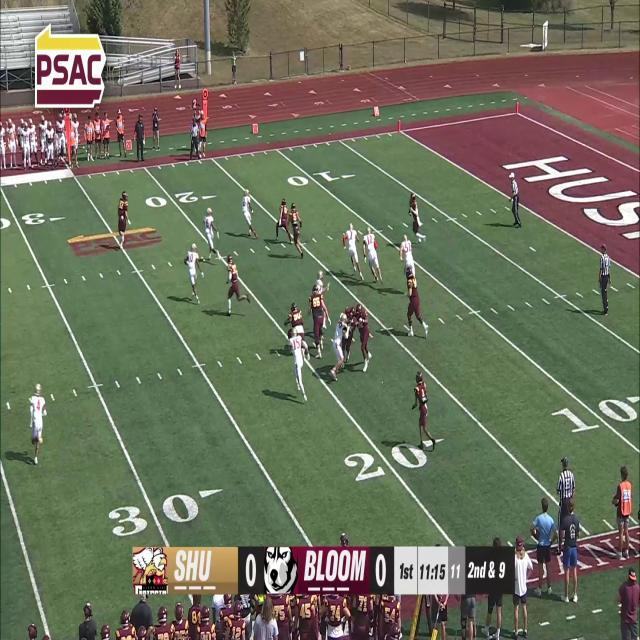football: (408, 207, 413, 216)
